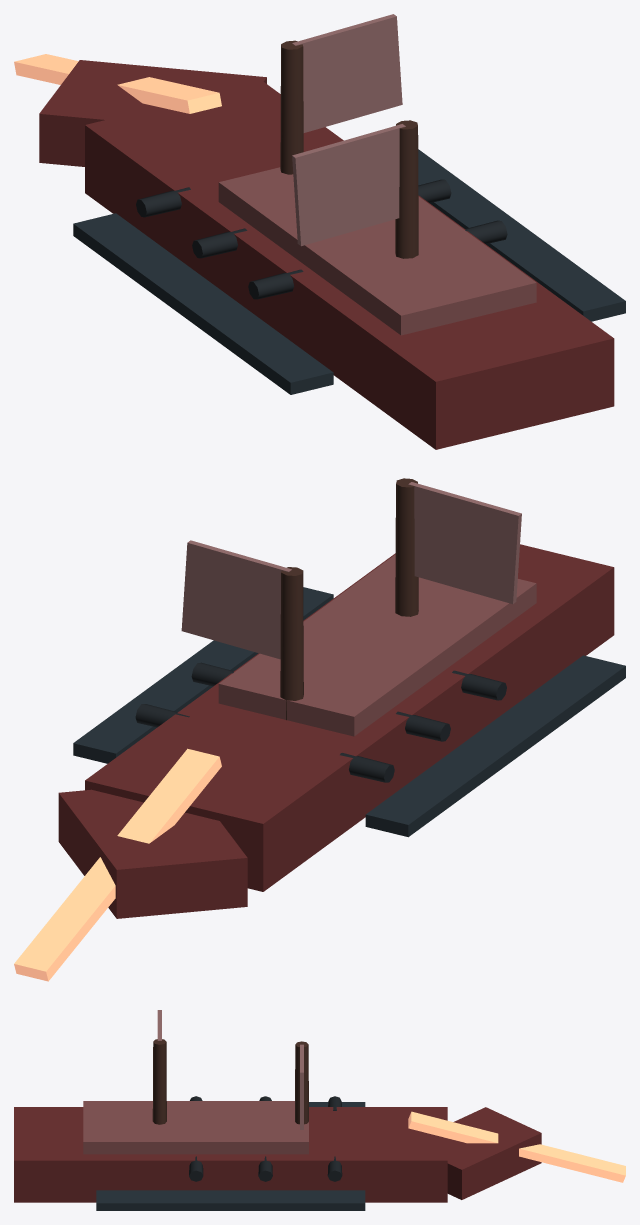
File: ship_main_54.glb
3 renders of one model, top to bottom at view 1: azimuth 30°, elevation 25°; view 2: azimuth 150°, elevation 25°; view 3: azimuth 270°, elevation 25°, orthographic. The views are drawn at different scales.
Visible parts, largest first — view 1: Hull, Deck_0, PortOutrigger, Sail_1, Sail_0, Bow, StarboardOutrigger, ProwIdentity, Mast_0, Mast_1, Gun_P_0, Gun_P_1 (+3 smaller); view 2: Hull, Deck_0, Bow, PortOutrigger, Sail_1, ProwIdentity, Sail_0, StarboardOutrigger, Mast_0, Mast_1, Gun_P_1, Gun_P_2 (+1 smaller); view 3: Hull, Deck_0, StarboardOutrigger, Bow, ProwIdentity, Mast_1, Mast_0, Sail_0.
Boxes of the visible parts, x1,y1,x2,y2 form: Hull: (85, 81, 614, 449); Deck_0: (218, 167, 536, 335); PortOutrigger: (73, 213, 333, 394); Sail_1: (292, 124, 405, 246); Sail_0: (292, 14, 402, 132); Bow: (39, 60, 266, 166); StarboardOutrigger: (418, 149, 625, 321); ProwIdentity: (14, 54, 221, 113); Mast_0: (280, 40, 303, 174); Mast_1: (395, 120, 418, 258); Gun_P_0: (136, 187, 190, 217); Gun_P_1: (192, 228, 247, 258); Hull: (85, 544, 614, 891); Deck_0: (218, 554, 536, 736); Bow: (58, 789, 247, 918); PortOutrigger: (365, 655, 625, 837); Sail_1: (408, 482, 521, 604); ProwIdentity: (14, 748, 221, 981); Sail_0: (181, 540, 291, 659); StarboardOutrigger: (73, 587, 333, 763); Mast_0: (280, 567, 303, 720); Mast_1: (395, 478, 418, 616); Gun_P_1: (396, 711, 450, 741); Gun_P_2: (452, 670, 506, 700); Hull: (14, 1107, 447, 1202); Deck_0: (83, 1101, 308, 1154); StarboardOutrigger: (96, 1190, 365, 1210); Bow: (447, 1107, 541, 1199); ProwIdentity: (408, 1111, 625, 1182); Mast_1: (152, 1039, 166, 1124); Mast_0: (295, 1041, 308, 1124); Sail_0: (300, 1044, 303, 1129).
Bounding box in the file's own units: 3.26 × 2.06 × 8.35.
